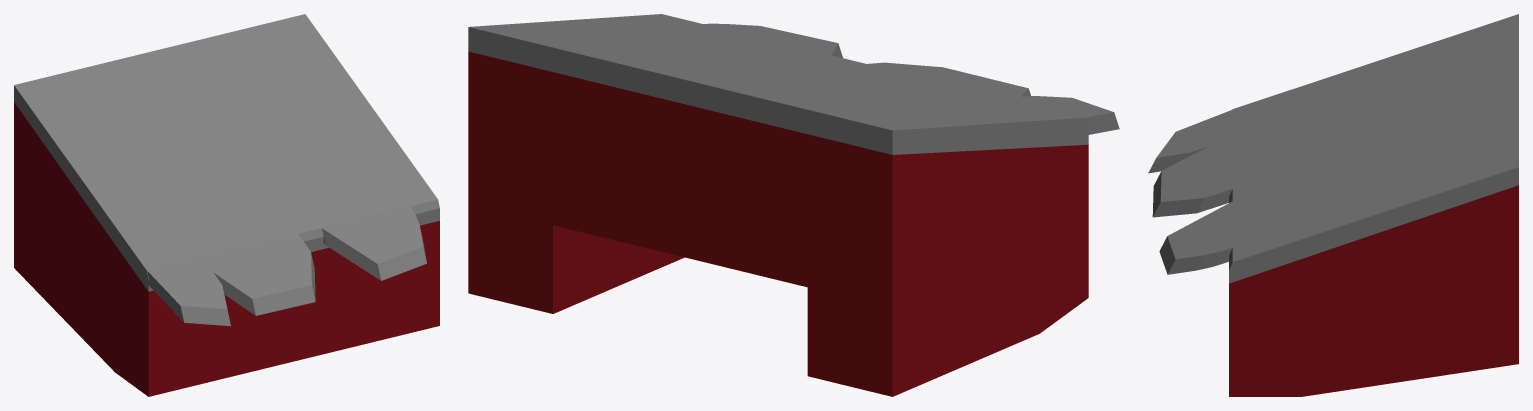
Rendered from SM_MH_01_Slate_Porch_Roof_End_Quarter_01.fbx.
3 views of the same model, side by side, from view 1: azimuth 30°, elevation 25°; view 2: azimuth 150°, elevation 25°; view 3: azimuth 270°, elevation 25° (orthographic). The views are drawn at different scales.
Visible parts, largest first — view 1: SM_MH_01_Slate_Porch_Roof_End_Quarter_01_LOD0; view 2: SM_MH_01_Slate_Porch_Roof_End_Quarter_01_LOD0; view 3: SM_MH_01_Slate_Porch_Roof_End_Quarter_01_LOD0.
Boxes of the visible parts, bbox=[...] form: SM_MH_01_Slate_Porch_Roof_End_Quarter_01_LOD0: bbox=[14, 14, 439, 396]; SM_MH_01_Slate_Porch_Roof_End_Quarter_01_LOD0: bbox=[468, 14, 1119, 396]; SM_MH_01_Slate_Porch_Roof_End_Quarter_01_LOD0: bbox=[1148, 14, 1518, 396].
Size of what is drawn, in the model's own units: 50 by 35 by 51.16.
